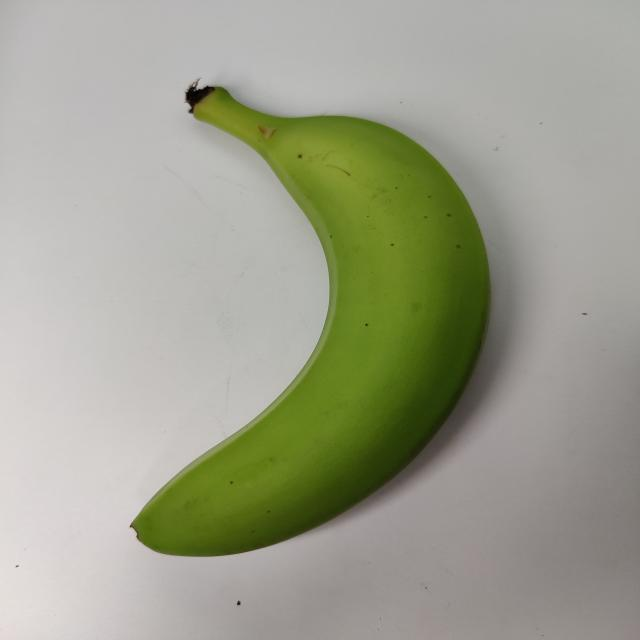raw: (66, 76, 527, 572)
